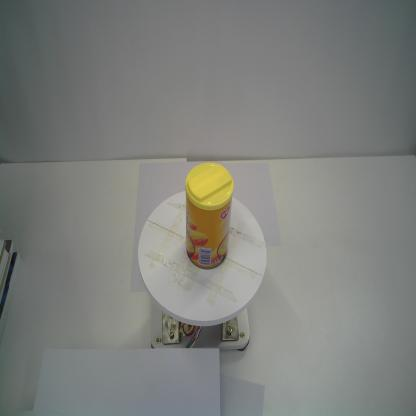Canned Food: (184, 161, 235, 271)
